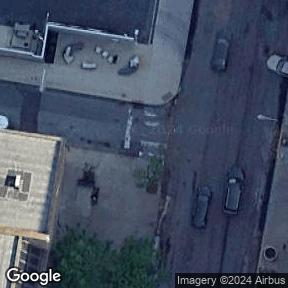vegetation: (52, 229, 168, 288), (129, 152, 167, 194)
